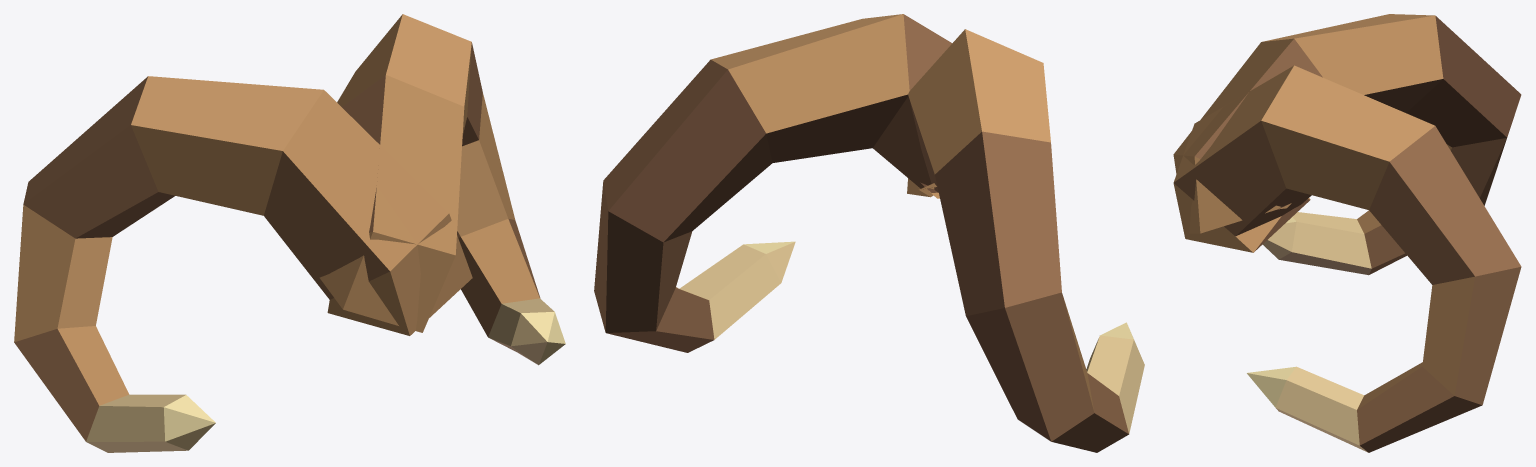
File: horns_tf_ram.glb
3 views of the same model, side by side, from view 1: azimuth 30°, elevation 25°; view 2: azimuth 150°, elevation 25°; view 3: azimuth 270°, elevation 25° (orthographic). The views are drawn at different scales.
Parts seen in each view (by area): view 1: Horn_R, Horn_L; view 2: Horn_L, Horn_R; view 3: Horn_L, Horn_R.
Part boxes in pixels (x1,y1,x2,y2): Horn_R: (14,76,472,452); Horn_L: (319,14,565,365); Horn_L: (594,14,952,352); Horn_R: (908,29,1144,452); Horn_L: (1173,65,1521,452); Horn_R: (1173,14,1521,275).
Size of the model in its own units: 0.1179 by 0.079 by 0.0798.
Materials: 1 (1 with a texture image).
